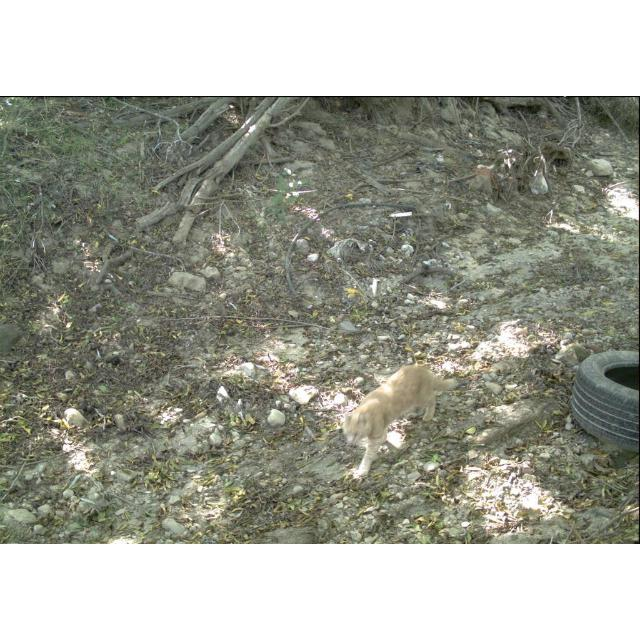animals: (340, 363, 460, 477)
